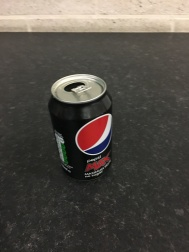can_black: (38, 67, 128, 185)
